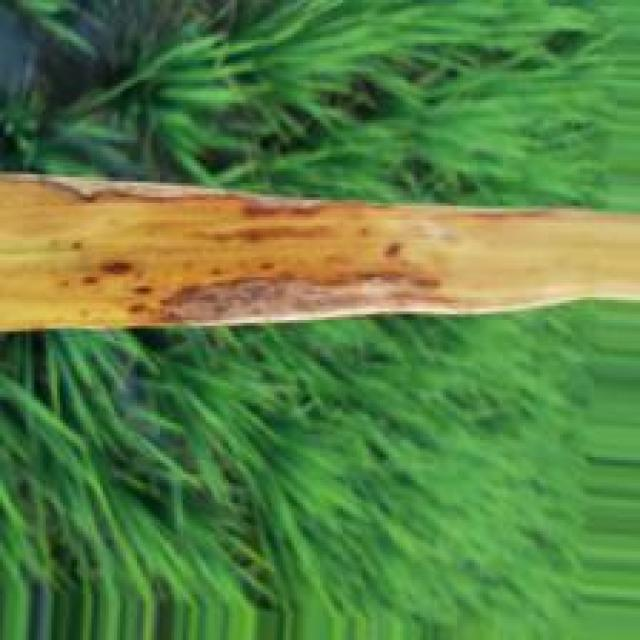Leaf_Scald: (0, 170, 640, 336)
